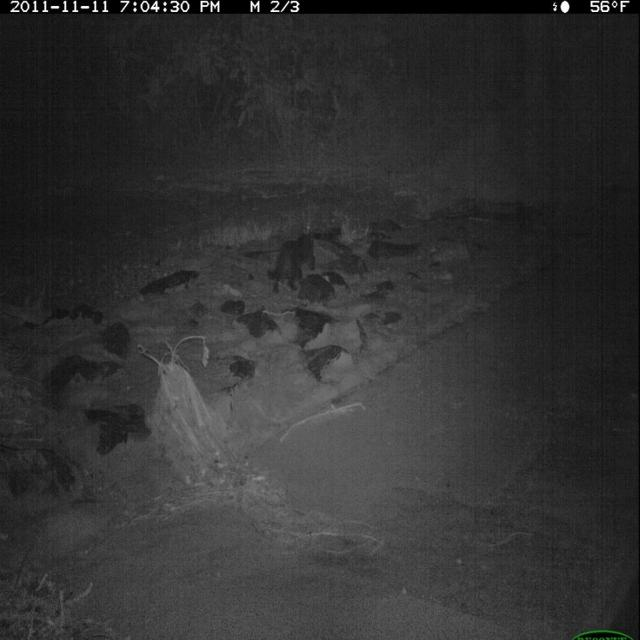cat: (257, 227, 326, 290)
